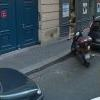Motorcycle: (62, 22, 94, 74)
